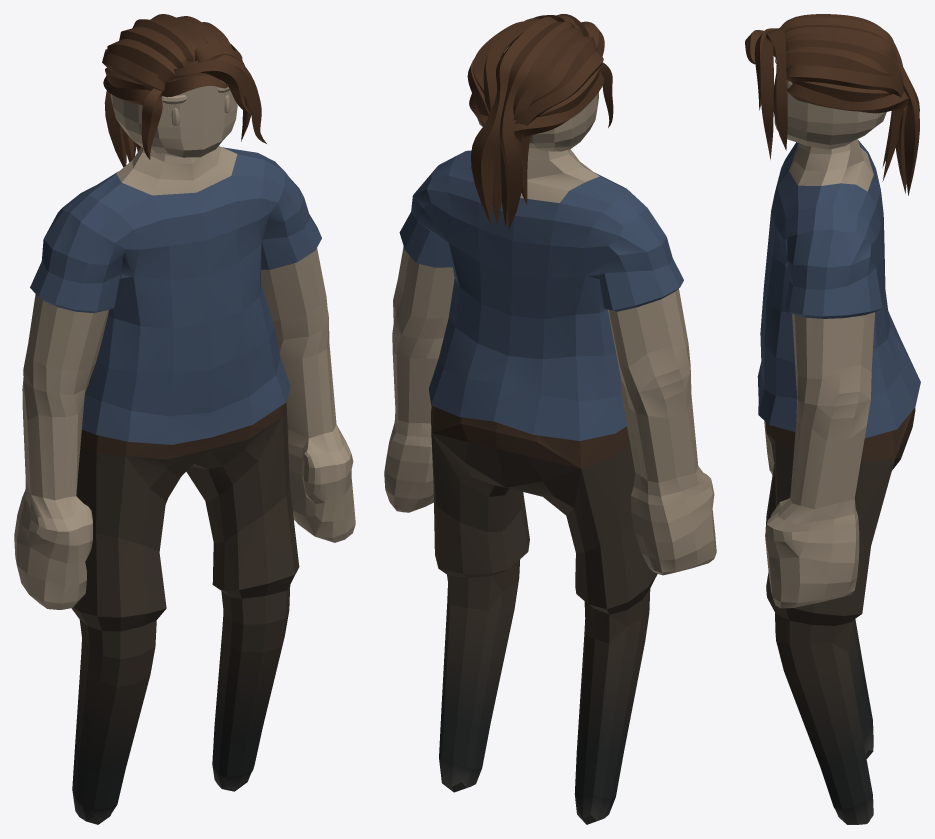
Rendered from citizen-female.glb.
The picture shows the model from 3 angles, left to right: view 1: azimuth 30°, elevation 25°; view 2: azimuth 150°, elevation 25°; view 3: azimuth 270°, elevation 25°; orthographic projection. The views are drawn at different scales.
Size of the model in its own units: 0.2378 by 0.55 by 0.1138.
